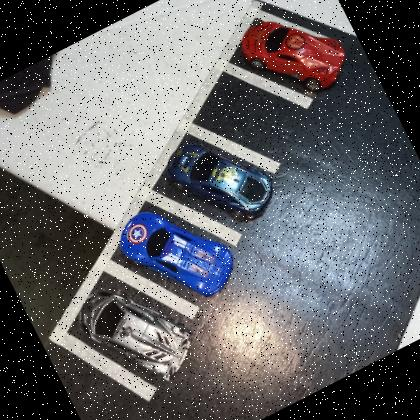Car: (66, 259, 208, 408), (108, 181, 246, 324), (157, 114, 286, 246), (231, 0, 359, 117)
